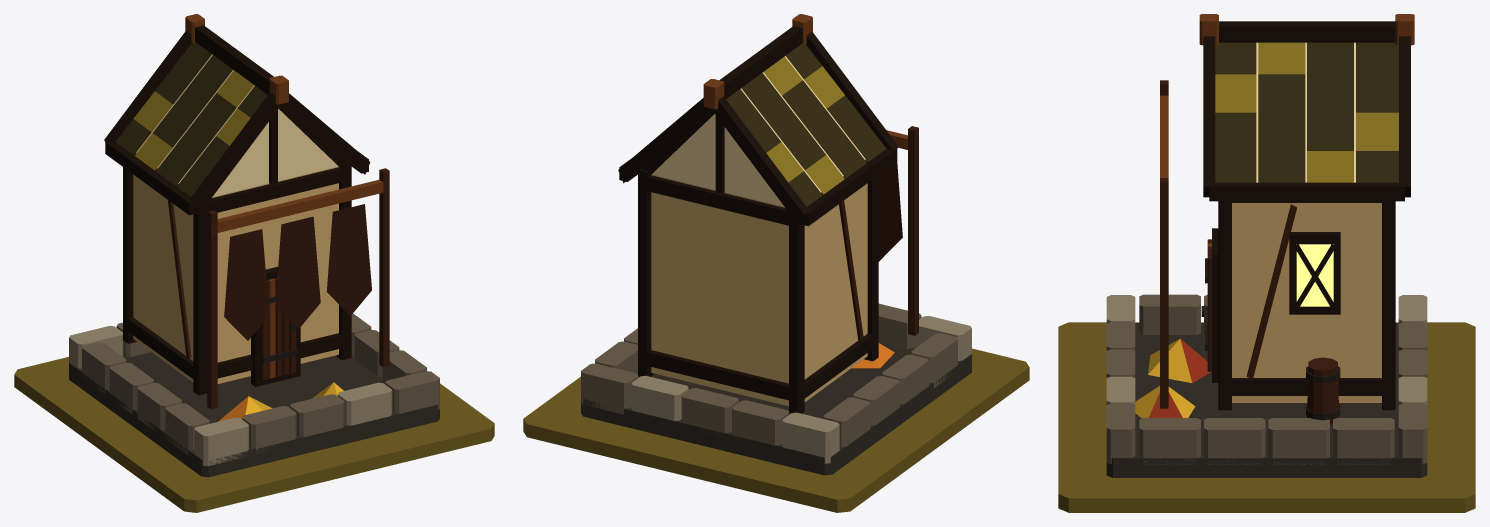
File: tannery_t3.glb
The picture shows the model from 3 angles, left to right: view 1: azimuth 30°, elevation 25°; view 2: azimuth 150°, elevation 25°; view 3: azimuth 270°, elevation 25°; orthographic projection. The views are drawn at different scales.
Parts seen in each view (by area): view 1: MMR | tannery | T03 Architecture.001, MMR | tannery | Tier 03 Ground.001, MMR | tannery | T03 Autumn Dressing.001; view 2: MMR | tannery | T03 Architecture.001, MMR | tannery | Tier 03 Ground.001; view 3: MMR | tannery | T03 Architecture.001, MMR | tannery | Tier 03 Ground.001, MMR | tannery | T03 Autumn Dressing.001.
Part boxes in pixels (box(x1,y1,x2,y2)): MMR | tannery | T03 Architecture.001: box(69, 14, 439, 477); MMR | tannery | Tier 03 Ground.001: box(14, 357, 494, 512); MMR | tannery | T03 Autumn Dressing.001: box(218, 382, 343, 421); MMR | tannery | T03 Architecture.001: box(581, 14, 971, 475); MMR | tannery | Tier 03 Ground.001: box(523, 348, 1029, 512); MMR | tannery | T03 Architecture.001: box(1106, 14, 1427, 477); MMR | tannery | Tier 03 Ground.001: box(1058, 322, 1475, 512); MMR | tannery | T03 Autumn Dressing.001: box(1135, 338, 1210, 418).
Bounding box in the file's own units: 1.3 × 1.4 × 1.3.
Materials: 2 (1 with a texture image).
